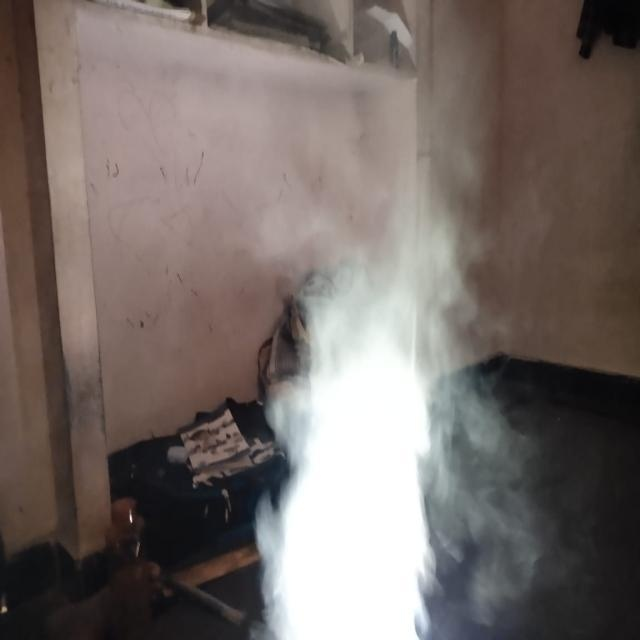smoke: (255, 279, 463, 640)
